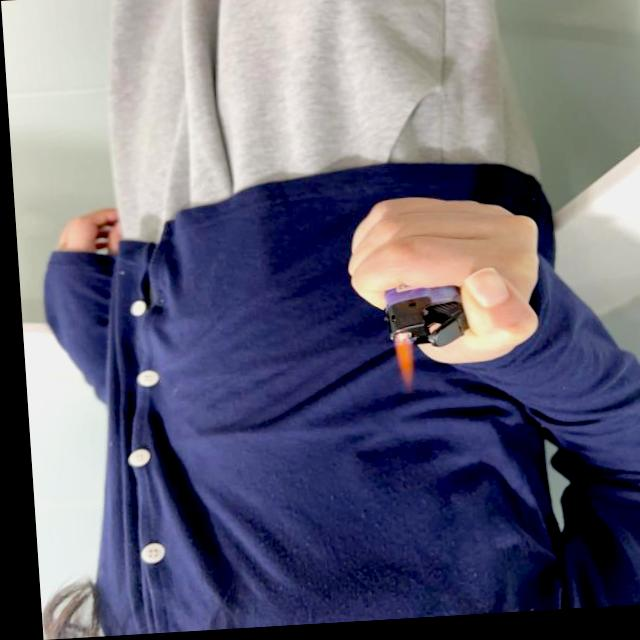helmet: (387, 335, 410, 395)
